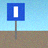sign: (7, 3, 24, 39)
